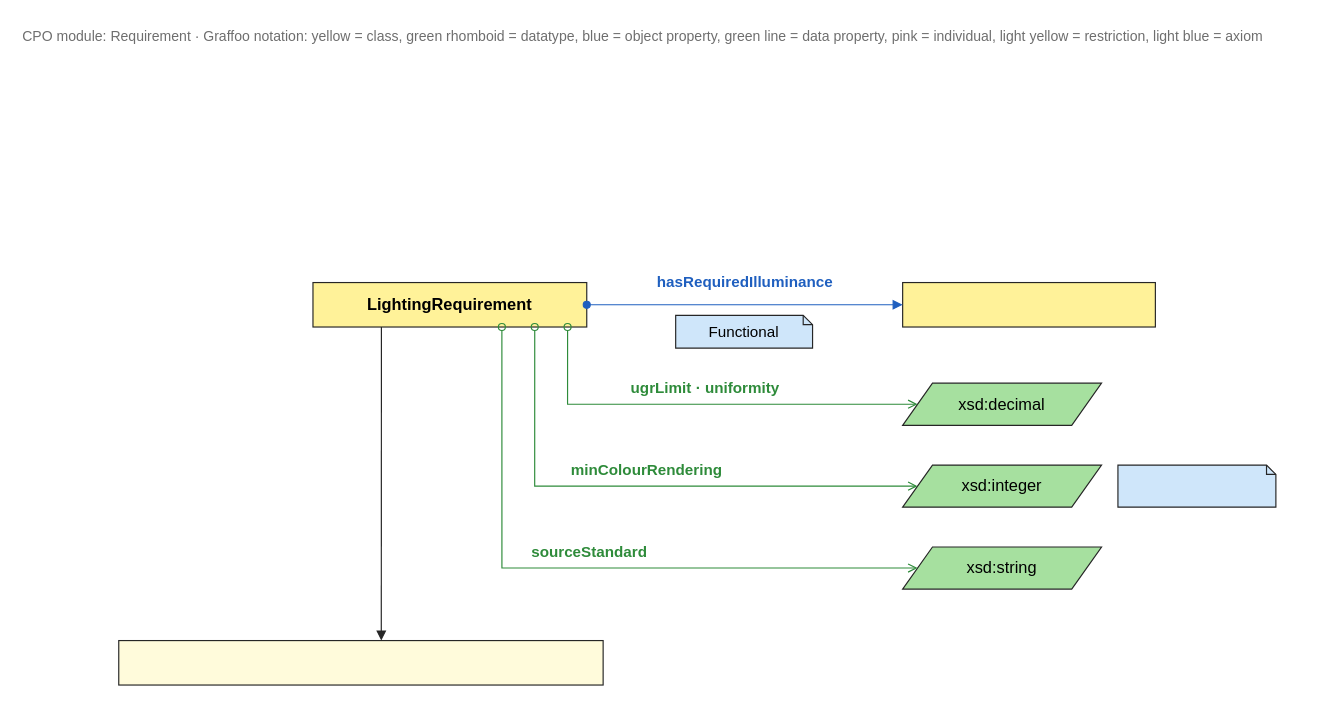
Image size: 1327x706. Some labels were removed from this diagram. Here are the shapes that lost their labels. From the top down, the centre of each, then its label:
(1028,304): qudt:QuantityValue
(1196,485): Functional (all four)
(360,662): SubClassOf: hasRequiredIlluminance exactly 1 qudt:QuantityValue
